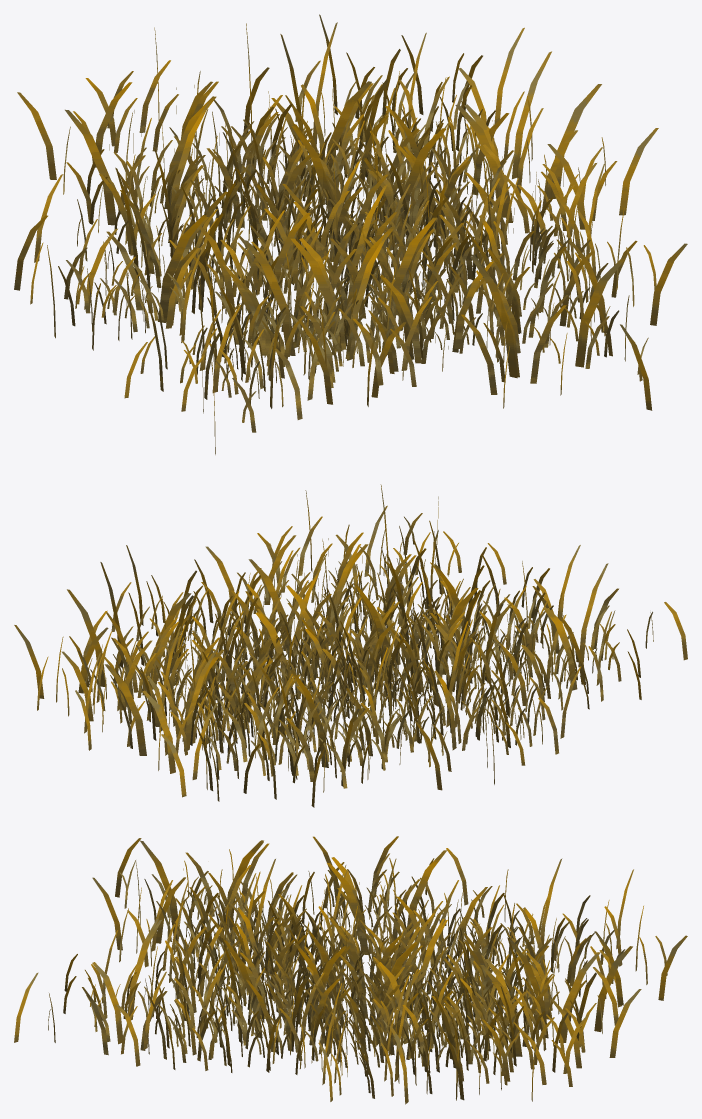
Rendered from grass.FBX.
The picture shows the model from 3 angles, top to bottom: view 1: azimuth 30°, elevation 25°; view 2: azimuth 150°, elevation 25°; view 3: azimuth 270°, elevation 25°; orthographic projection. The views are drawn at different scales.
Visible parts, largest first — view 1: Plane186; view 2: Plane186; view 3: Plane186.
Boxes of the visible parts, x1,y1,x2,y2 form: Plane186: [14, 14, 687, 454]; Plane186: [14, 484, 687, 807]; Plane186: [14, 836, 687, 1104].
Size of the model in its own units: 1256 by 232 by 1551.
Materials: 1 (1 with a texture image).
